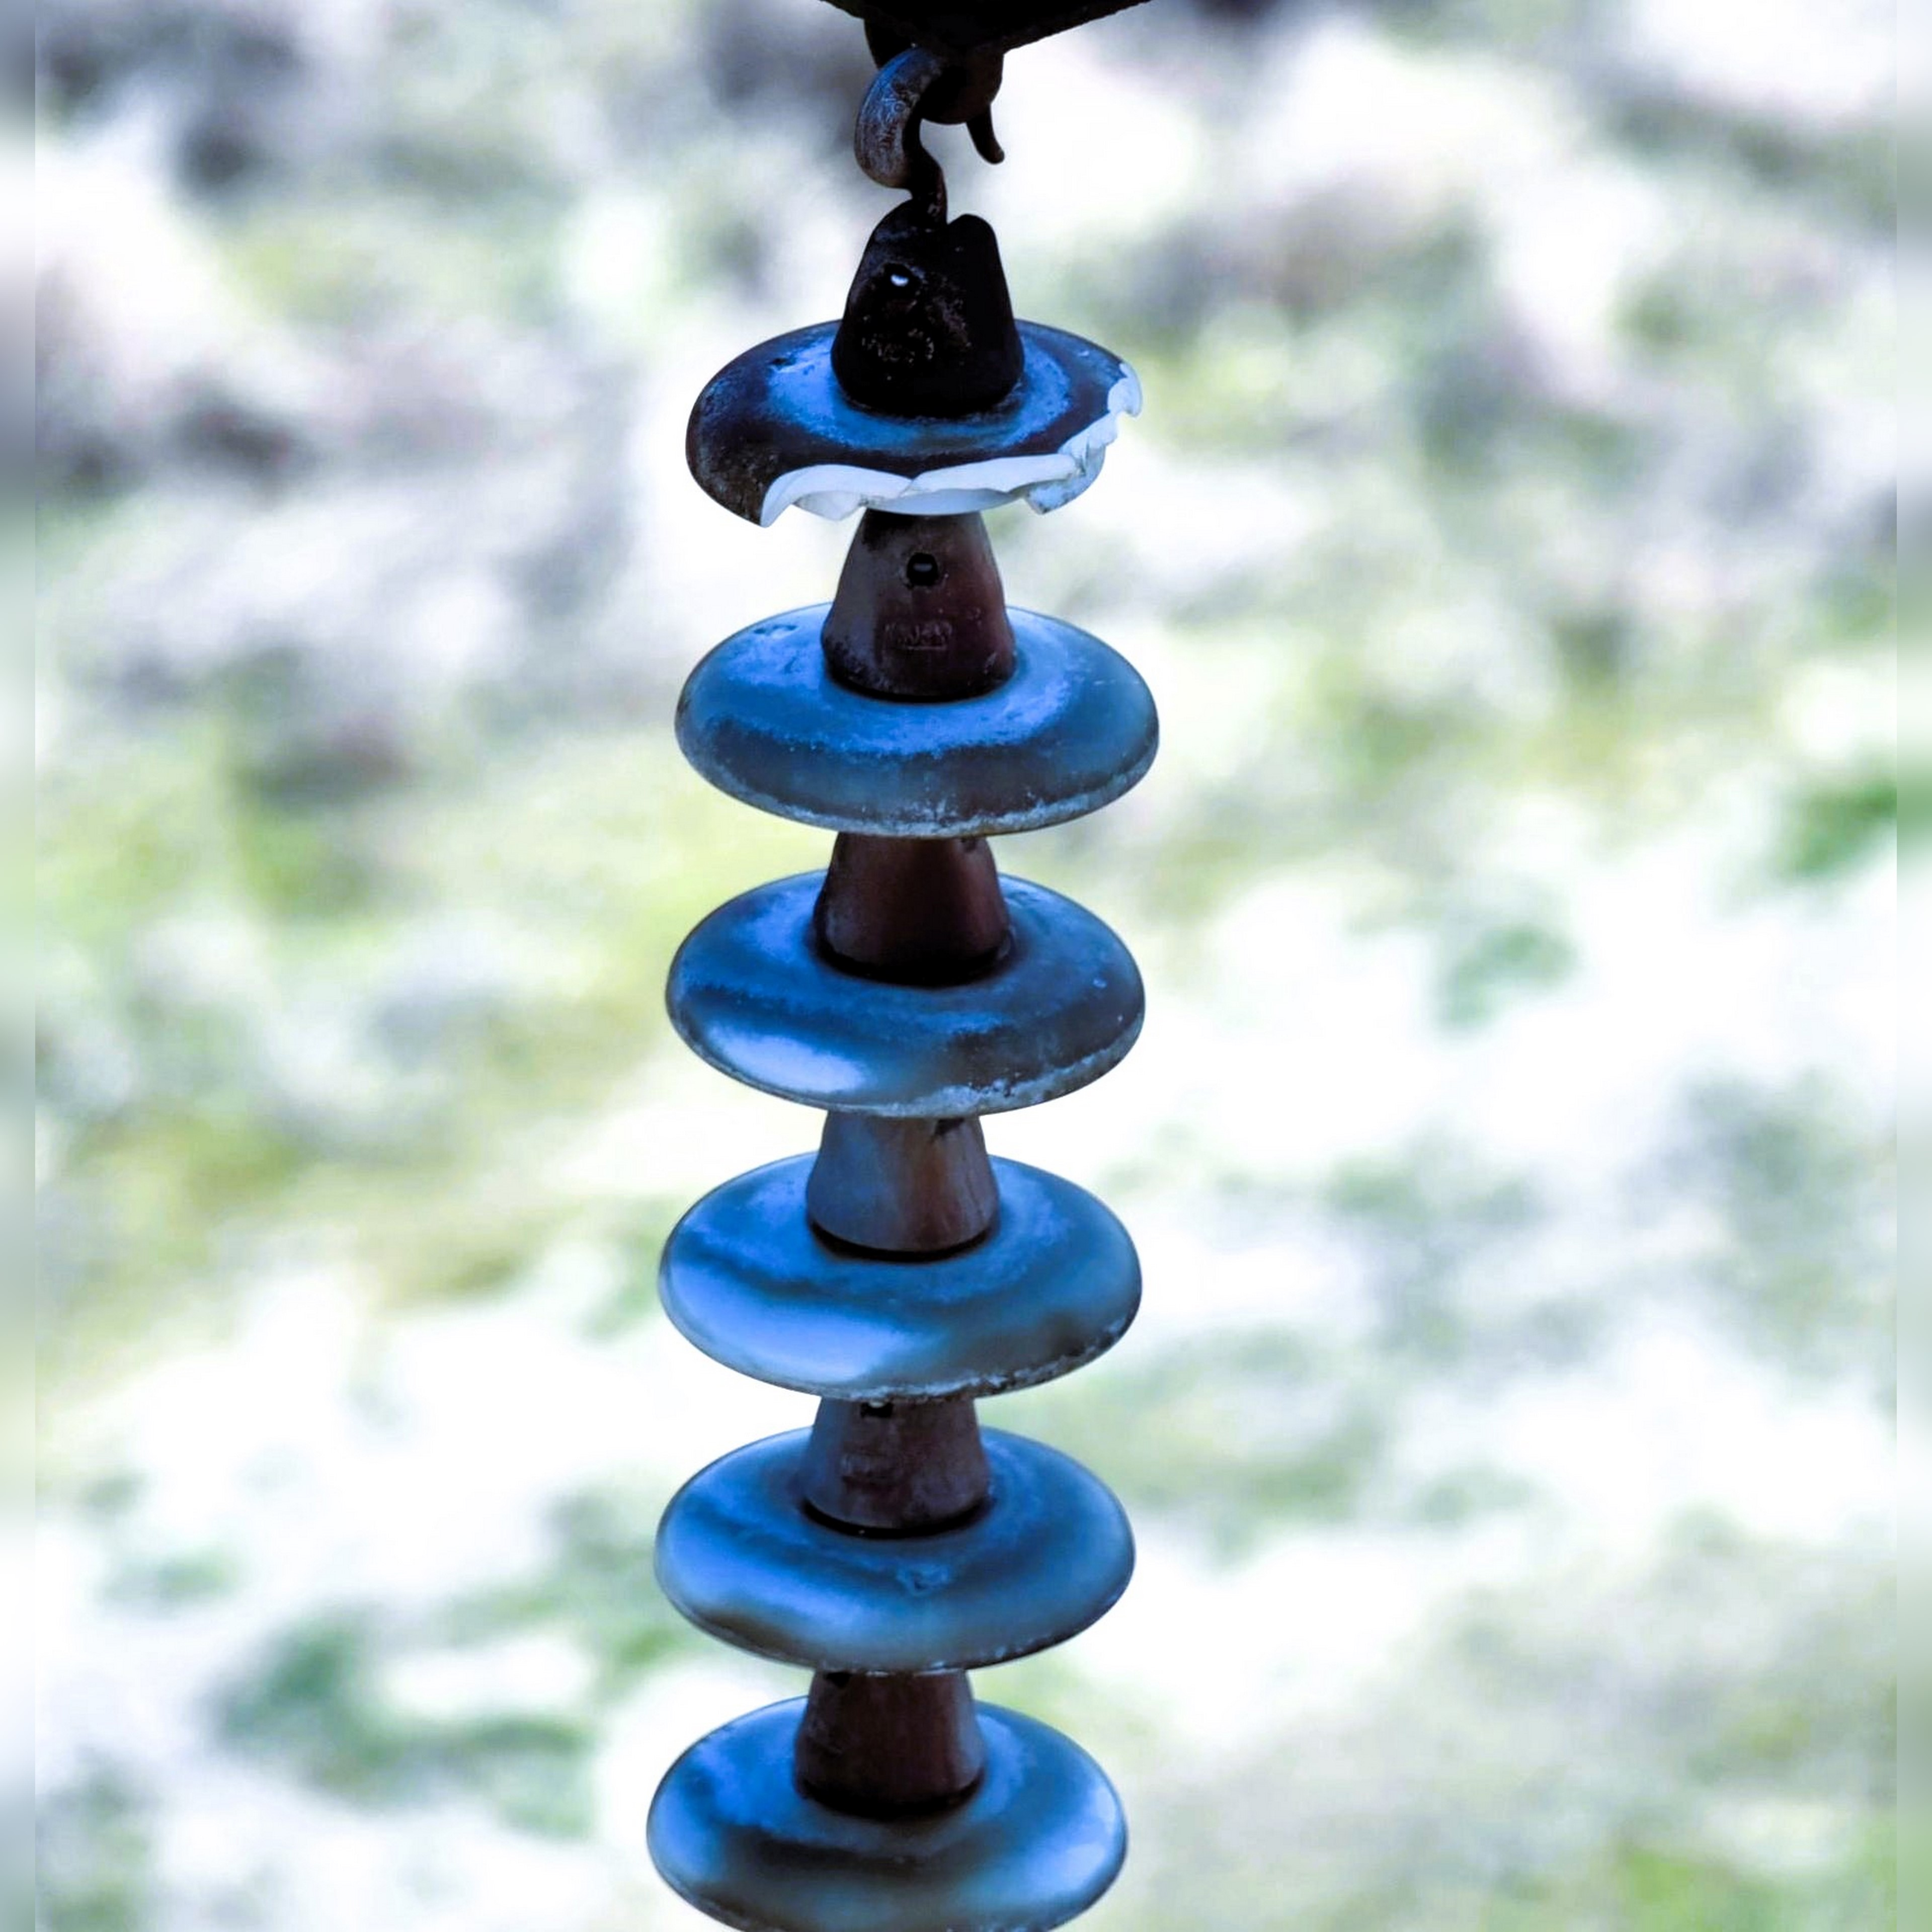insulator breakage: (676, 299, 1143, 547)
